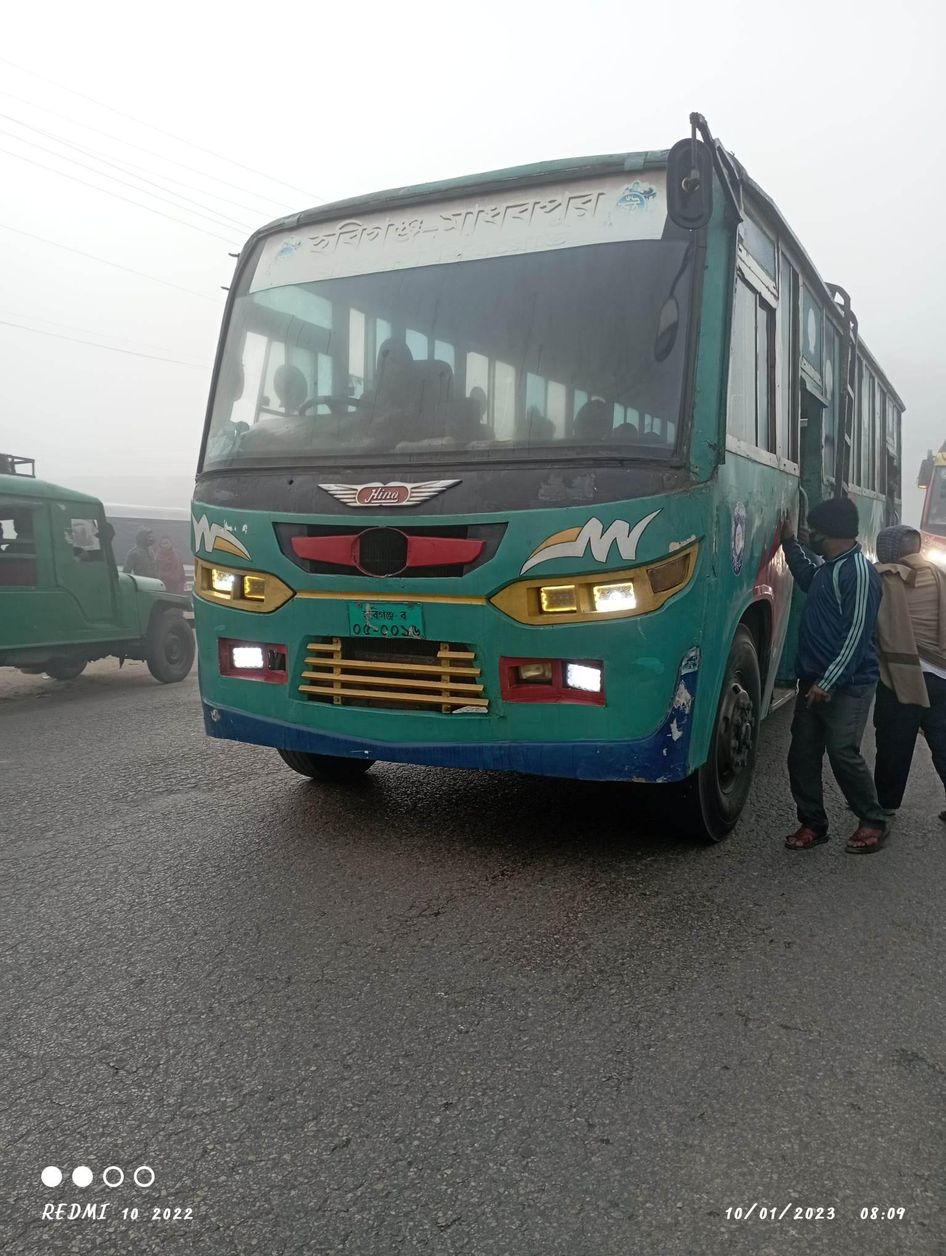Bus: (132, 110, 914, 848)
Car: (5, 443, 195, 743)
